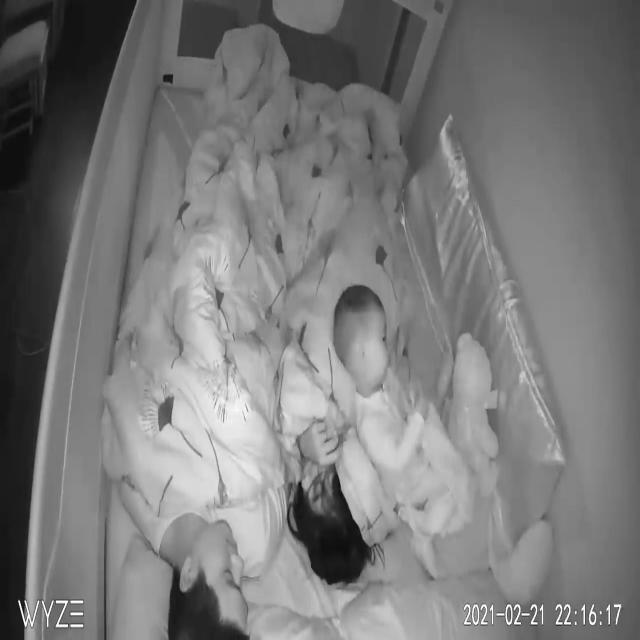baby: (331, 288, 458, 540)
